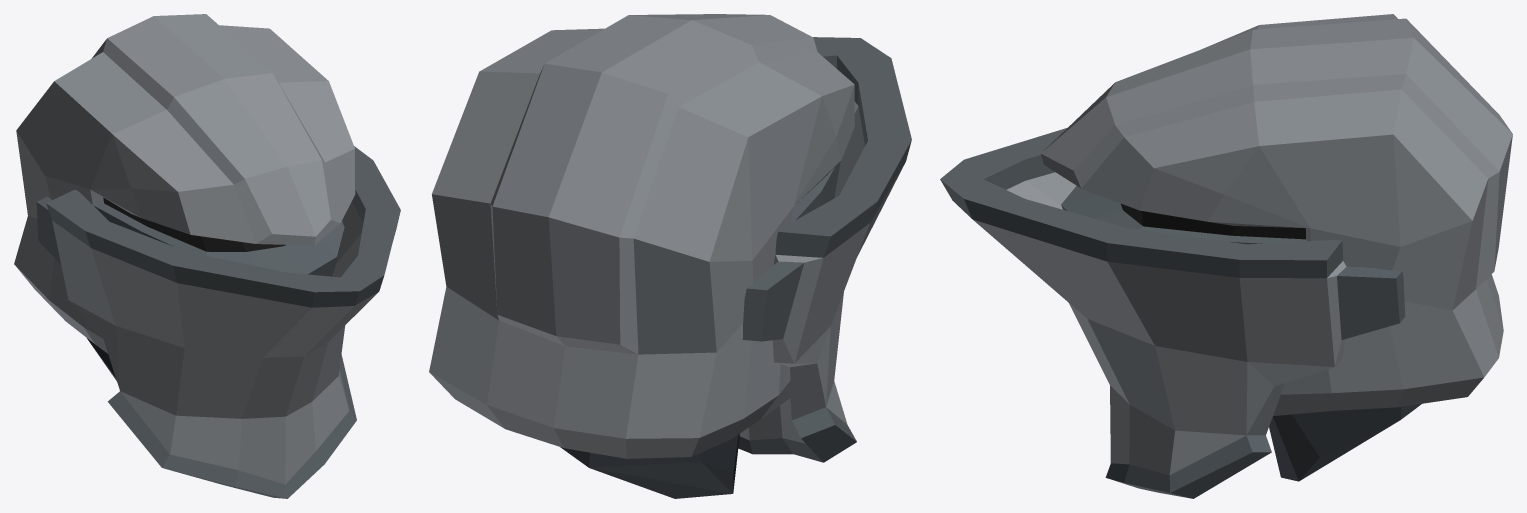
The model's file is Chr_Head_No_Elements_Female_10_Static.fbx.
3 renders of one model, left to right at view 1: azimuth 30°, elevation 25°; view 2: azimuth 150°, elevation 25°; view 3: azimuth 270°, elevation 25°, orthographic. The views are drawn at different scales.
Visible parts, largest first — view 1: Chr_Head_No_Elements_Female_10_Static; view 2: Chr_Head_No_Elements_Female_10_Static; view 3: Chr_Head_No_Elements_Female_10_Static.
Part boxes in pixels (bbox=[...]): Chr_Head_No_Elements_Female_10_Static: bbox=[14, 14, 400, 498]; Chr_Head_No_Elements_Female_10_Static: bbox=[429, 14, 911, 498]; Chr_Head_No_Elements_Female_10_Static: bbox=[940, 14, 1512, 498].
Bounding box in the file's own units: 0.2904 × 0.3766 × 0.4337.
